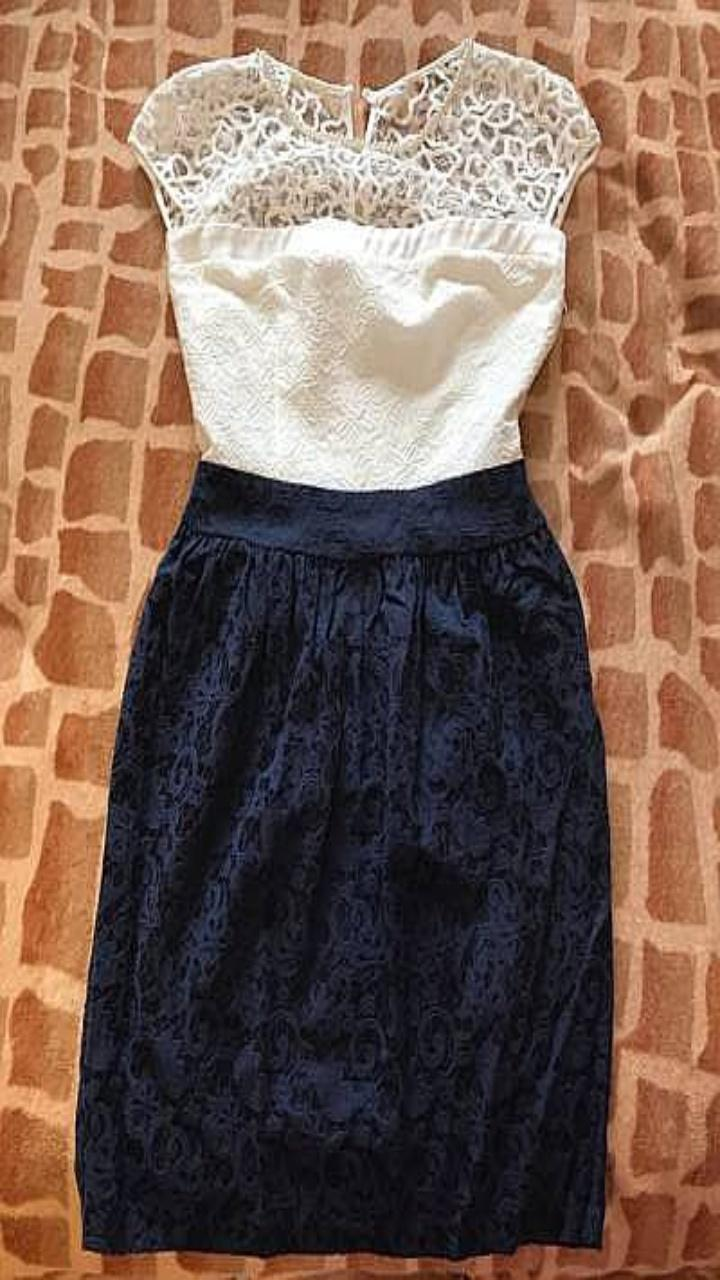Dresses: (75, 39, 612, 1257)
T-Shirt: (128, 37, 600, 488)
